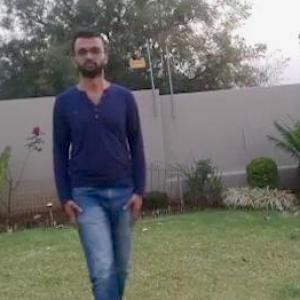follow: (57, 39, 147, 299)
